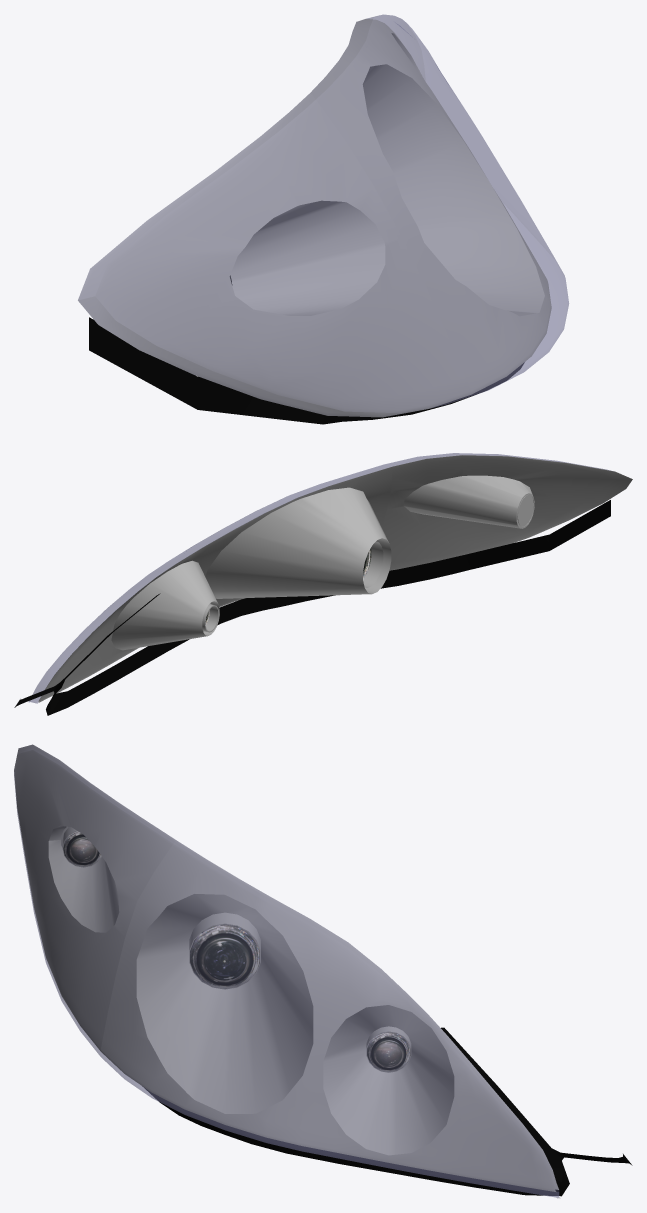
3 views of the same model, one above another, from view 1: azimuth 30°, elevation 25°; view 2: azimuth 150°, elevation 25°; view 3: azimuth 270°, elevation 25° (orthographic). The views are drawn at different scales.
Visible parts, largest first — view 1: Y174_061B_R_Y174_061B_R_6_DTaSI, Y174_061B_R_Y174_061B_R_5_DaS, Y174_061B_R_Y174_061B_R_7_D; view 2: Y174_061B_R_Y174_061B_R_5_DaS, Y174_061B_R_Y174_061B_R_7_D, Y174_061B_R_Y174_061B_R_6_DTaSI; view 3: Y174_061B_R_Y174_061B_R_6_DTaSI, Y174_061B_R_Y174_061B_R_5_DaS, Y174_061B_R_Y174_061B_R_7_D, Y174_061B_R_Y174_061B_R_2_N, Y174_061B_R_Y174_061B_R_4_N, Y174_061B_R_1_N_Y174_061B_R.
Boxes of the visible parts, x1,y1,x2,y2 form: Y174_061B_R_Y174_061B_R_6_DTaSI: [78, 14, 568, 417]; Y174_061B_R_Y174_061B_R_5_DaS: [78, 18, 551, 417]; Y174_061B_R_Y174_061B_R_7_D: [89, 317, 524, 424]; Y174_061B_R_Y174_061B_R_5_DaS: [38, 455, 632, 702]; Y174_061B_R_Y174_061B_R_7_D: [14, 500, 610, 715]; Y174_061B_R_Y174_061B_R_6_DTaSI: [29, 453, 611, 703]; Y174_061B_R_Y174_061B_R_6_DTaSI: [14, 744, 559, 1198]; Y174_061B_R_Y174_061B_R_5_DaS: [14, 744, 558, 1191]; Y174_061B_R_Y174_061B_R_7_D: [145, 1027, 632, 1196]; Y174_061B_R_Y174_061B_R_2_N: [190, 924, 259, 988]; Y174_061B_R_Y174_061B_R_4_N: [367, 1032, 410, 1071]; Y174_061B_R_1_N_Y174_061B_R: [63, 831, 101, 866].
Size of the model in its own units: 51.28 by 24.23 by 55.23.
